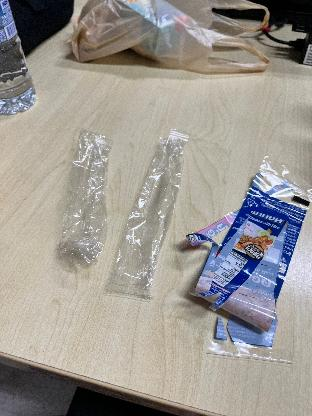Others: (187, 156, 312, 358), (111, 130, 194, 298), (60, 119, 113, 271)
